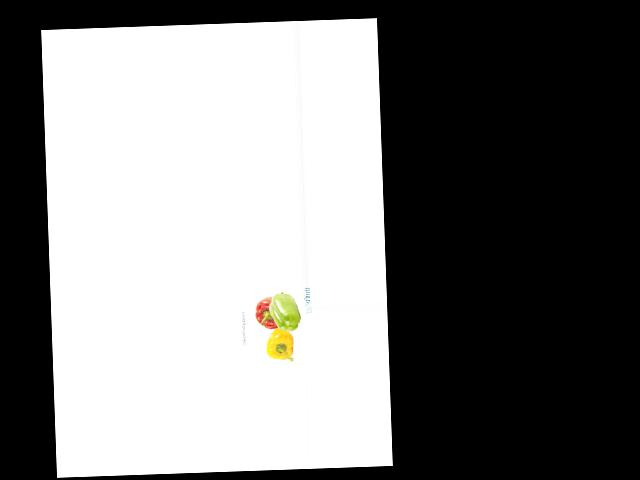bell_pepper: (269, 290, 304, 334)
